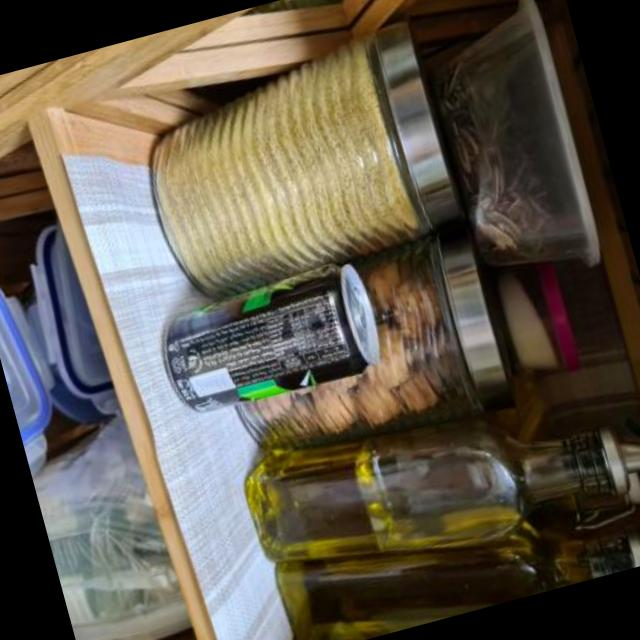metal: (164, 265, 378, 412)
